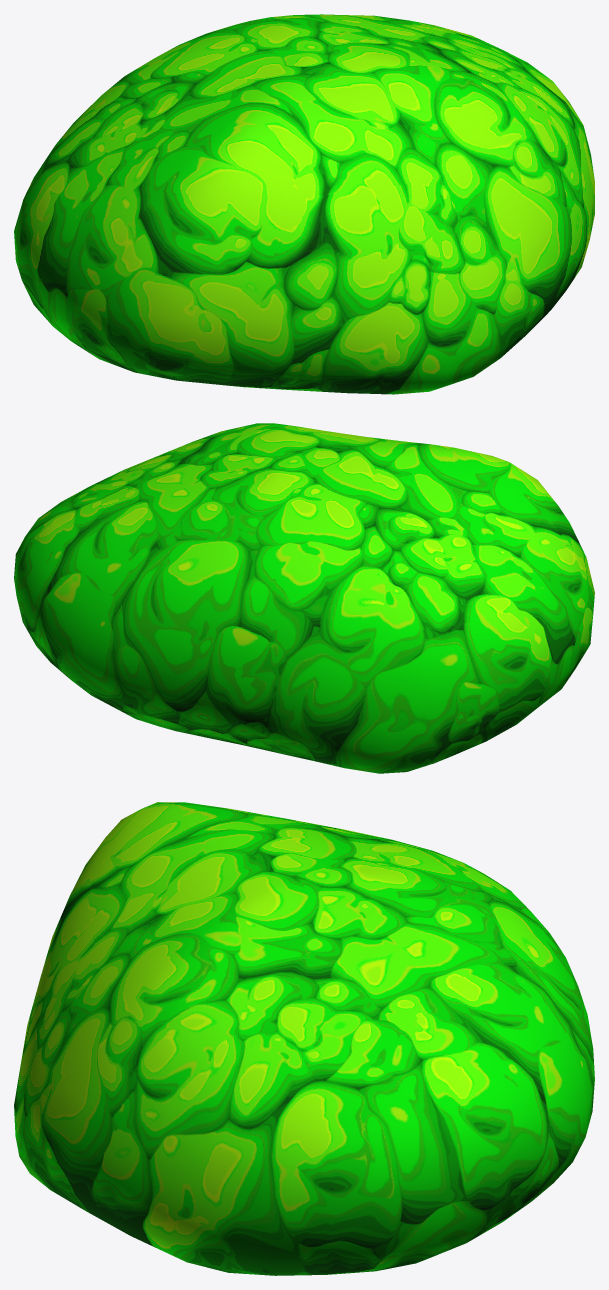
Rendered from leaves4.glb.
3 views of the same model, one above another, from view 1: azimuth 30°, elevation 25°; view 2: azimuth 150°, elevation 25°; view 3: azimuth 270°, elevation 25° (orthographic). The views are drawn at different scales.
Parts seen in each view (by area): view 1: LP; view 2: LP; view 3: LP.
Boxes of the visible parts, <box> form: LP: <box>14,14,594,394</box>; LP: <box>14,423,594,773</box>; LP: <box>14,802,594,1275</box>.
Bounding box in the file's own units: 1.55 × 0.722 × 1.24.
Materials: 1 (1 with a texture image).
